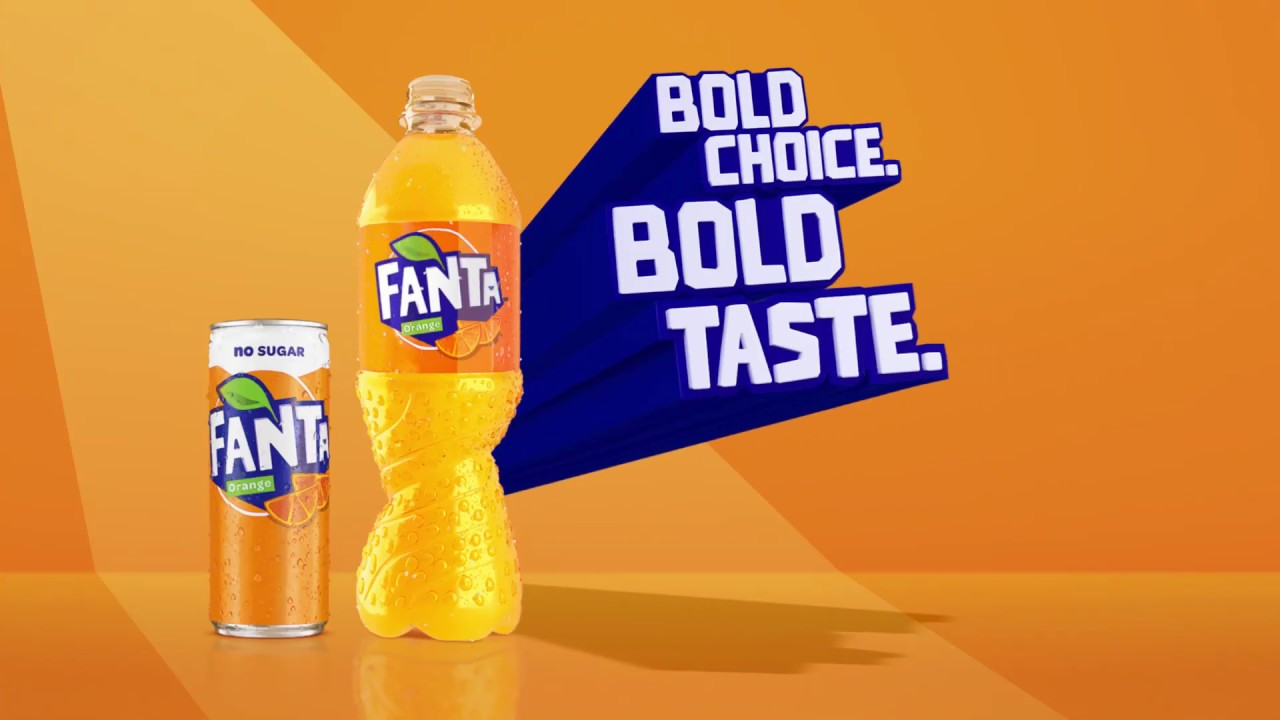Copy of Fanta: (342, 58, 538, 668)
Fanta: (180, 307, 343, 668)
